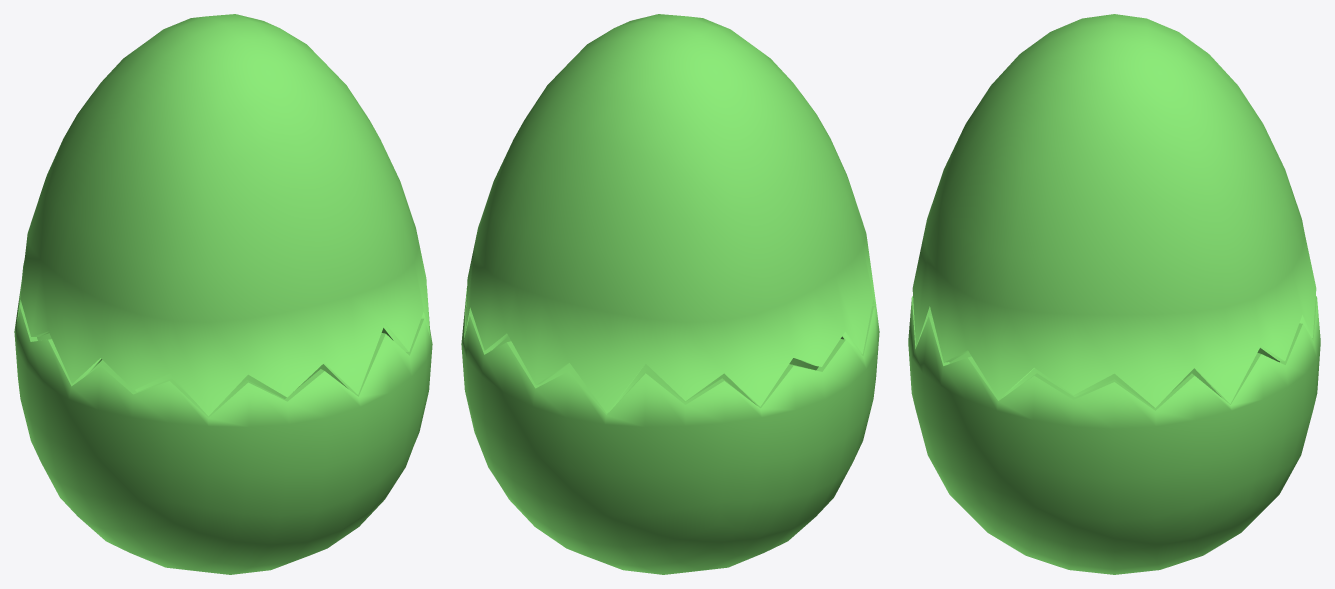
Rendered from Eggshell 4.fbx.
3 renders of one model, left to right at view 1: azimuth 30°, elevation 25°; view 2: azimuth 150°, elevation 25°; view 3: azimuth 270°, elevation 25°, orthographic.
Visible parts, largest first — view 1: Jaje 4 Top, Jaje 4 Bot; view 2: Jaje 4 Top, Jaje 4 Bot; view 3: Jaje 4 Top, Jaje 4 Bot.
Boxes of the visible parts, box(x1,y1,x2,y2) form: Jaje 4 Top: box(18, 14, 429, 415); Jaje 4 Bot: box(14, 282, 432, 574); Jaje 4 Top: box(464, 14, 876, 413); Jaje 4 Bot: box(461, 288, 879, 574); Jaje 4 Top: box(912, 14, 1316, 407); Jaje 4 Bot: box(908, 296, 1320, 574).
Bounding box in the file's own units: 256 × 362 × 256.
